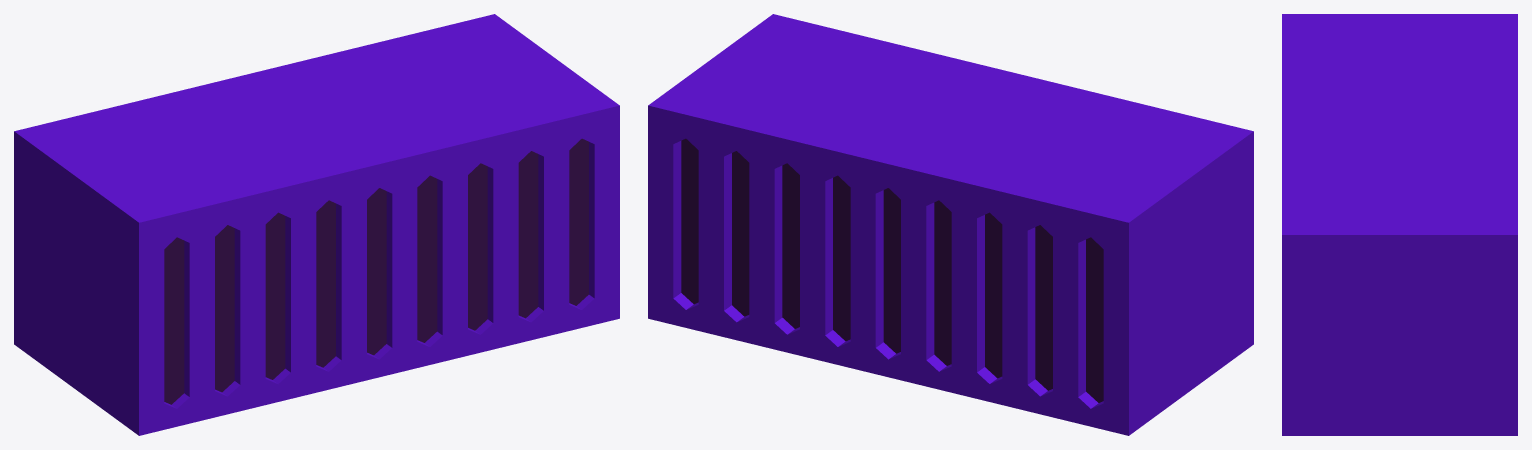
3 renders of one model, left to right at view 1: azimuth 30°, elevation 25°; view 2: azimuth 150°, elevation 25°; view 3: azimuth 270°, elevation 25°, orthographic. The views are drawn at different scales.
Parts seen in each view (by area): view 1: Box001; view 2: Box001; view 3: Box001.
Part boxes in pixels (x1=…): Box001: x1=14, y1=14, x2=619, y2=435; Box001: x1=648, y1=14, x2=1253, y2=435; Box001: x1=1282, y1=14, x2=1517, y2=435.
Bounding box in the file's own units: 114 × 48.16 × 51.2.
